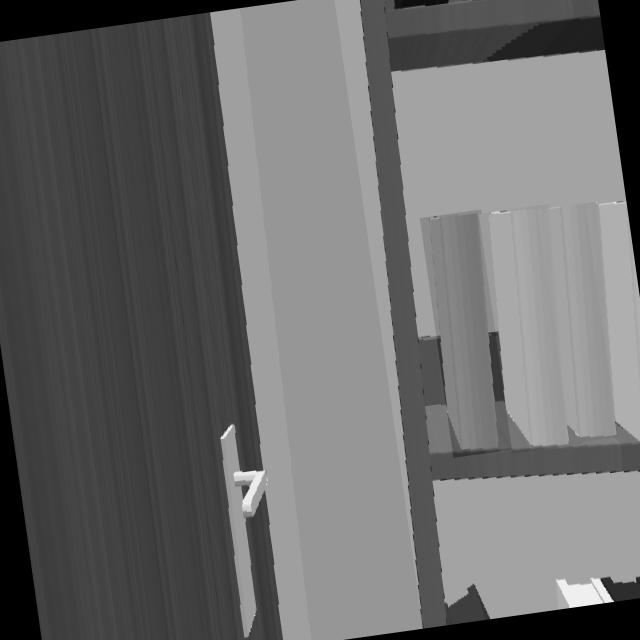book: (488, 208, 569, 445), (429, 214, 502, 452), (551, 206, 617, 440), (597, 202, 640, 444)
shelf: (360, 0, 640, 629)
